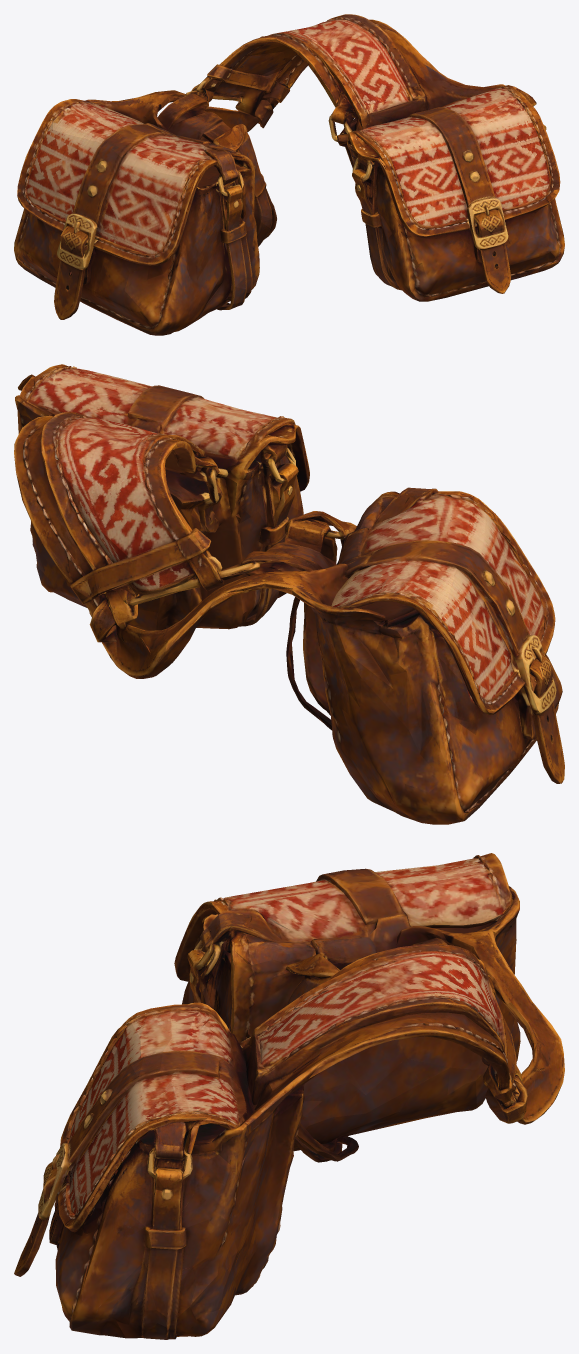
The model's file is saddlebags.glb.
3 views of the same model, one above another, from view 1: azimuth 30°, elevation 25°; view 2: azimuth 150°, elevation 25°; view 3: azimuth 270°, elevation 25° (orthographic). The views are drawn at different scales.
Size of the model in its own units: 1.9 by 0.8383 by 1.41.
Materials: 1 (1 with a texture image).
